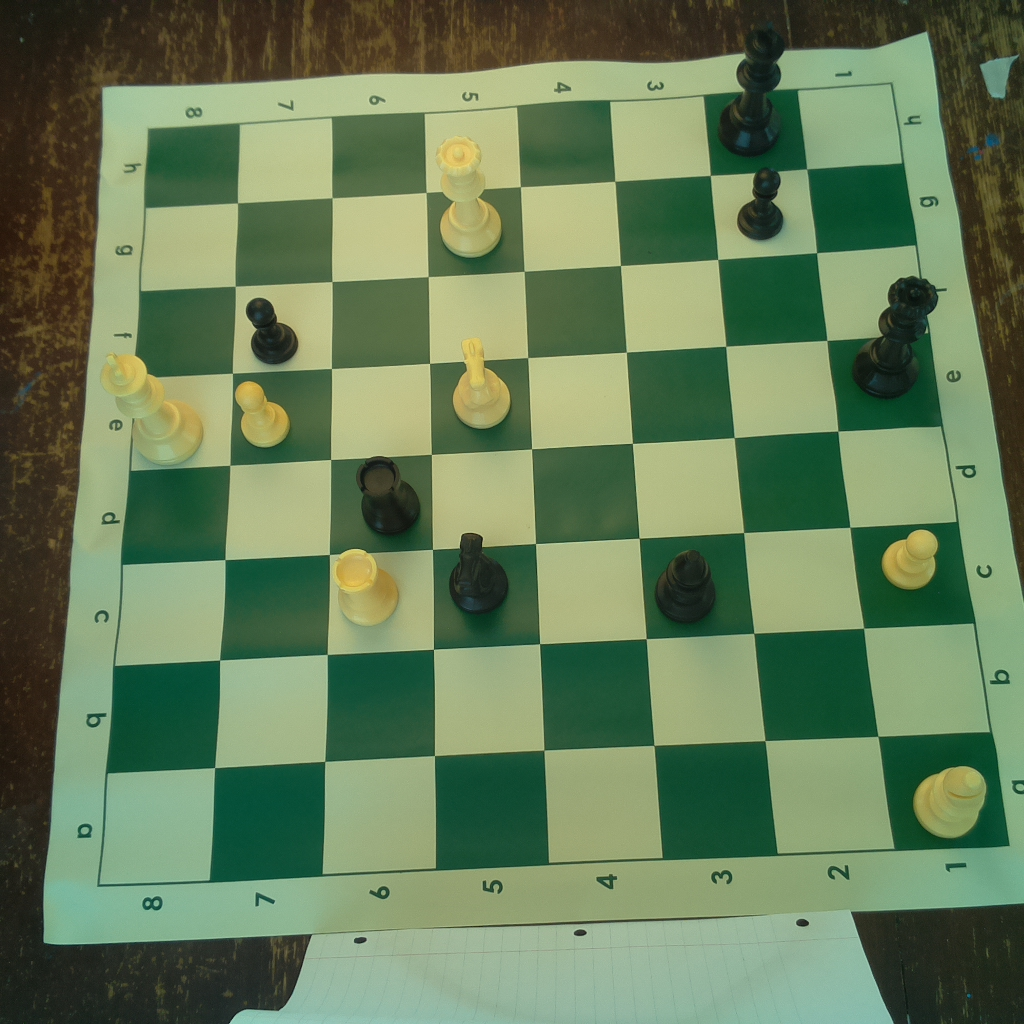black_bishop: (650, 543, 719, 623)
black_king: (715, 22, 789, 161)
black_knight: (438, 526, 510, 614)
black_pawn: (733, 164, 788, 245), (244, 295, 302, 366)
black_queen: (850, 269, 944, 401)
black_rook: (350, 453, 425, 534)
file_a: (96, 732, 1012, 886)
file_b: (103, 622, 992, 774)
file_c: (116, 526, 977, 666)
file_d: (121, 426, 958, 564)
file_e: (129, 331, 942, 471)
file_f: (133, 245, 931, 380)
file_g: (140, 165, 916, 292)
file_h: (145, 84, 902, 210)
outline: (97, 83, 1014, 886)
rank_1: (796, 84, 1010, 852)
rank_2: (706, 87, 897, 854)
rank_3: (608, 95, 780, 861)
rank_4: (519, 97, 666, 866)
rank_5: (424, 106, 551, 874)
rank_6: (321, 113, 437, 871)
rank_7: (207, 118, 333, 882)
rank_8: (97, 123, 242, 890)
white_bishop: (911, 761, 989, 843)
white_king: (94, 347, 211, 467)
white_knight: (447, 331, 512, 430)
white_pawn: (880, 519, 942, 593), (236, 377, 292, 448)
white_queen: (433, 128, 505, 262)
white_rook: (327, 544, 402, 628)
